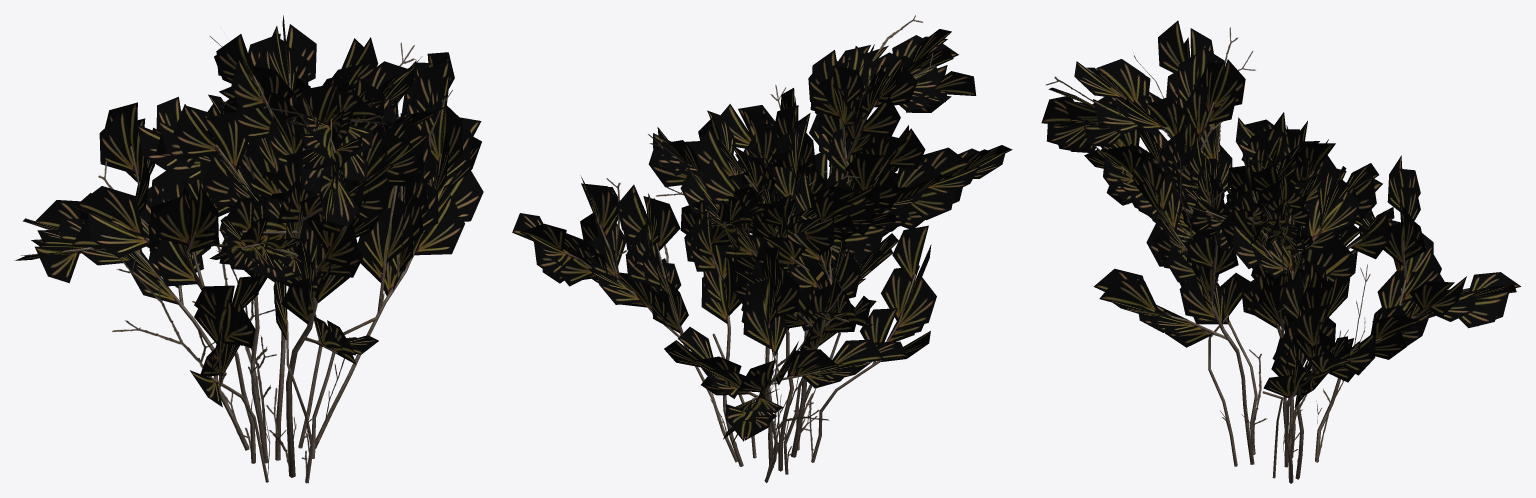
File: bush_c.glb
3 views of the same model, side by side, from view 1: azimuth 30°, elevation 25°; view 2: azimuth 150°, elevation 25°; view 3: azimuth 270°, elevation 25° (orthographic). The views are drawn at different scales.
Parts seen in each view (by area): view 1: wild_rooibos_bush_c; view 2: wild_rooibos_bush_c; view 3: wild_rooibos_bush_c.
Boxes of the visible parts, x1,y1,x2,y2 form: wild_rooibos_bush_c: [14, 15, 483, 483]; wild_rooibos_bush_c: [512, 15, 1012, 483]; wild_rooibos_bush_c: [1041, 20, 1520, 483].
Bounding box in the file's own units: 0.4254 × 0.4484 × 0.4721.
Materials: 3 (3 with a texture image).
